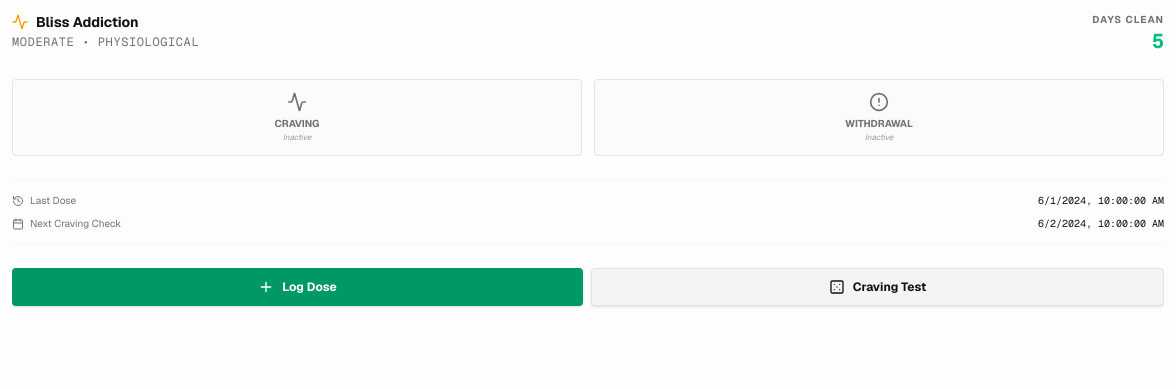
Test: AddictionTracker › shows Resisted for successful roll result
Click the button "Craving Test": (878, 287) x1=591 y1=268 x2=1164 y2=306
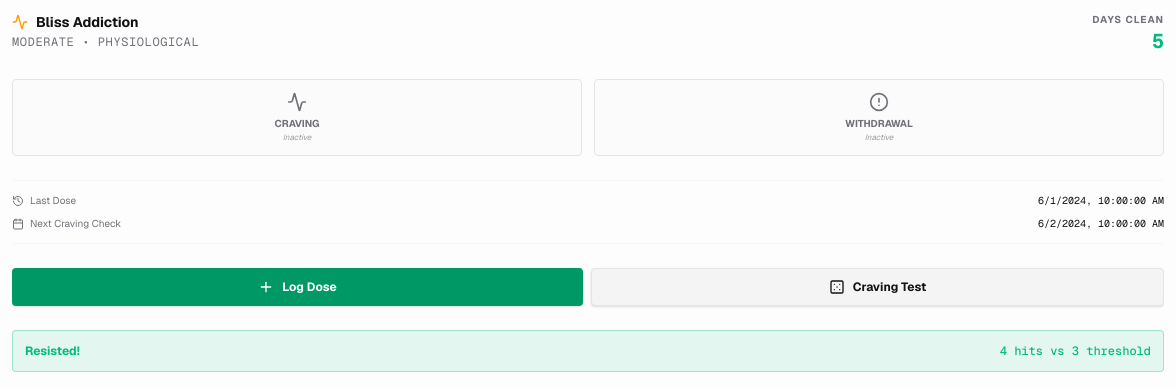
Now the text "Resisted!" is shown, box x1=25 y1=343 x2=80 y2=359
Now the text "4 hits vs 3 threshold" is shown, box x1=1000 y1=343 x2=1151 y2=359
